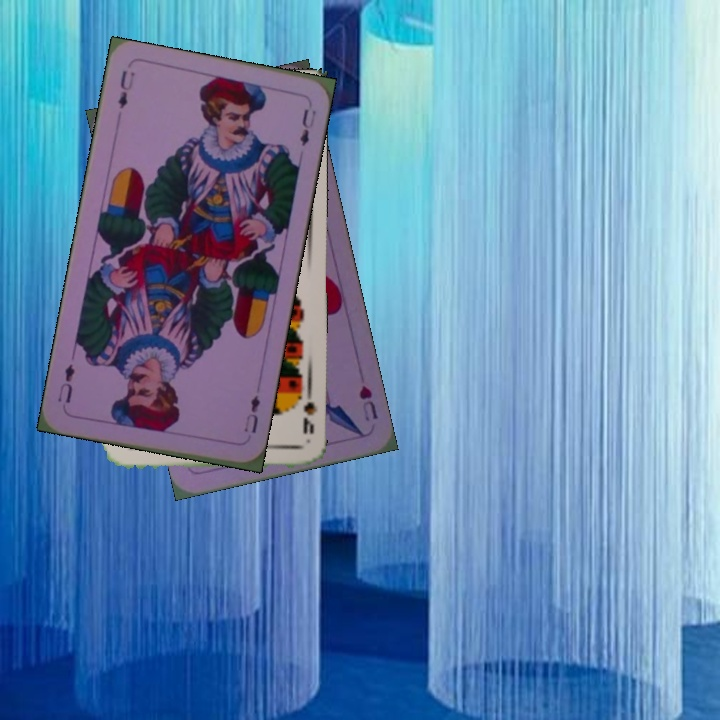EU: (240, 390, 263, 436), (114, 66, 137, 112)
HU: (355, 381, 381, 424)
S9: (292, 384, 318, 436)
